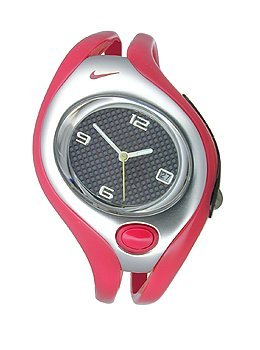clock: (54, 92, 196, 222)
